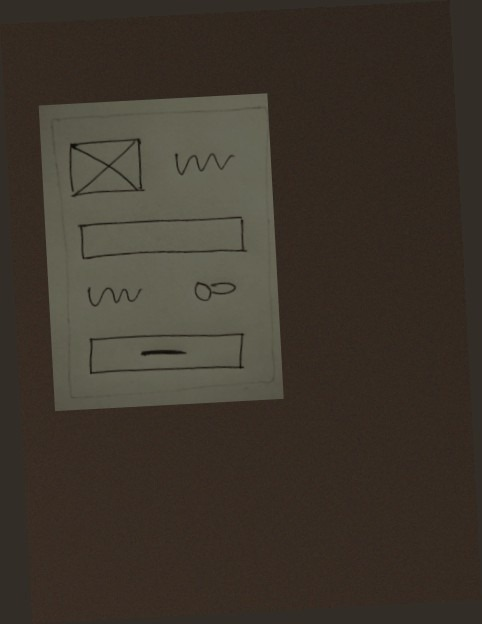button: (84, 324, 249, 382)
image: (63, 133, 150, 205)
switch: (187, 275, 245, 307)
text: (170, 146, 240, 181), (81, 280, 147, 312)
text_input: (75, 211, 251, 269)
